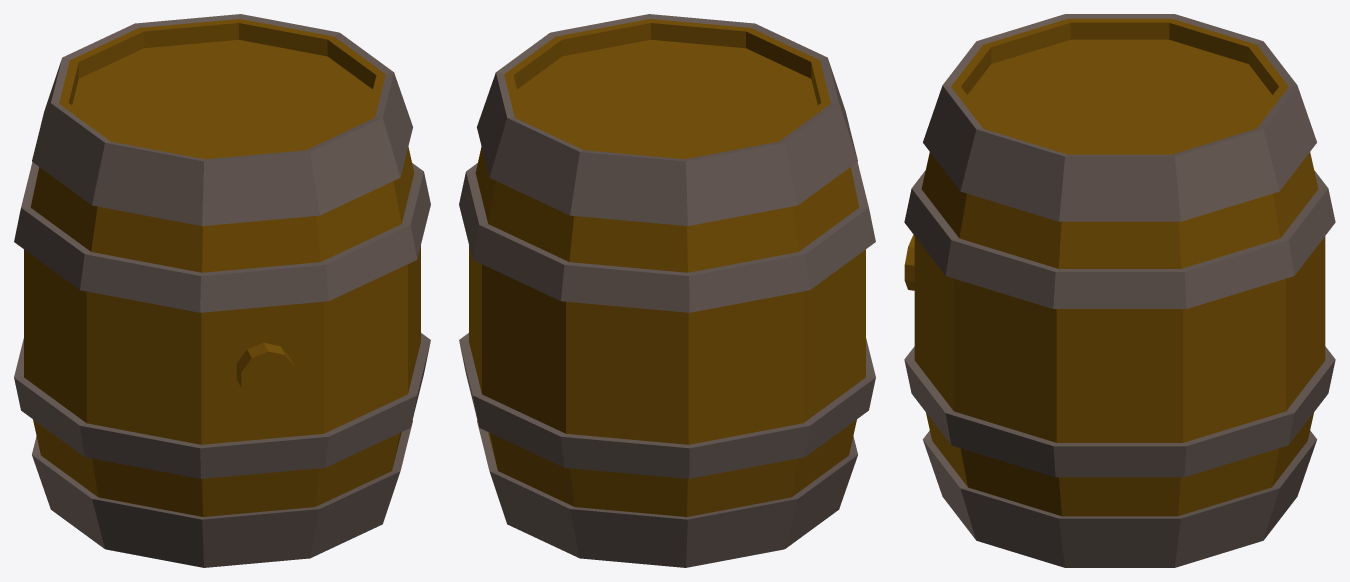
Rendered from Keg.fbx.
3 views of the same model, side by side, from view 1: azimuth 30°, elevation 25°; view 2: azimuth 150°, elevation 25°; view 3: azimuth 270°, elevation 25° (orthographic).
Visible parts, largest first — view 1: Keg; view 2: Keg; view 3: Keg.
Part boxes in pixels (x1=…): Keg: x1=14, y1=14, x2=430, y2=567; Keg: x1=459, y1=14, x2=875, y2=567; Keg: x1=904, y1=14, x2=1335, y2=567.
Bounding box in the file's own units: 218 × 242 × 230.
